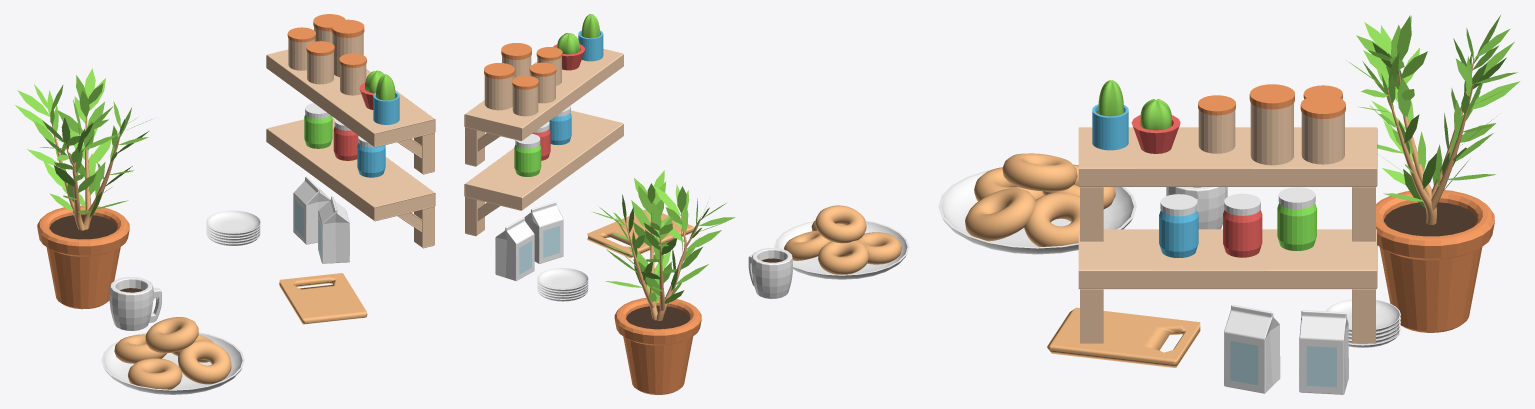
File: ericassets.fbx
3 renders of one model, left to right at view 1: azimuth 30°, elevation 25°; view 2: azimuth 150°, elevation 25°; view 3: azimuth 270°, elevation 25°, orthographic. The views are drawn at different scales.
Visible parts, largest first — view 1: Plant, Hang shelf, Hang shelf.001, Doughnut, Wood jar, Cutting board, Jar, Mug, Plate, Milk cartoon.001, Stack of plate, Milk cartoon (+2 smaller); view 2: Plant, Hang shelf, Hang shelf.001, Doughnut, Wood jar, Jar, Plate, Milk cartoon, Mug, Milk cartoon.001, Cutting board, Stack of plate (+2 smaller); view 3: Plant, Hang shelf, Hang shelf.001, Wood jar, Doughnut, Jar, Cutting board, Milk cartoon.001, Milk cartoon, Plate, Cylinder.001, Succulent (+2 smaller).
Part boxes in pixels (x1,y1,x2,y2): Plant: (15,68,151,309); Hang shelf: (266,118,435,248); Hang shelf.001: (266,49,435,174); Doughnut: (114,317,231,389); Wood jar: (287,14,366,95); Cutting board: (279,273,367,324); Jar: (304,103,385,177); Mug: (109,277,161,330); Plate: (101,332,244,394); Milk cartoon.001: (318,196,349,263); Stack of plate: (206,210,260,245); Milk cartoon: (293,176,330,244); Plant: (593,170,735,394); Hang shelf: (464,110,623,236); Hang shelf.001: (464,48,623,166); Doughnut: (784,205,901,274); Wood jar: (484,43,562,116); Jar: (514,105,571,176); Plate: (774,220,909,279); Milk cartoon: (495,217,534,281); Mug: (748,247,792,298); Milk cartoon.001: (524,201,563,263); Cutting board: (587,209,694,258); Stack of plate: (537,268,588,301); Plant: (1346,15,1520,332); Hang shelf: (1078,229,1377,343); Hang shelf.001: (1078,127,1377,241); Wood jar: (1198,84,1345,165); Doughnut: (965,153,1115,247); Jar: (1159,187,1316,257); Cutting board: (1047,307,1200,367); Milk cartoon.001: (1224,304,1280,393); Milk cartoon: (1299,310,1348,394); Plate: (938,169,1136,254); Cylinder.001: (1092,80,1128,150); Succulent: (1131,99,1180,153).
Bounding box in the file's own units: 1212 × 899 × 1301.
